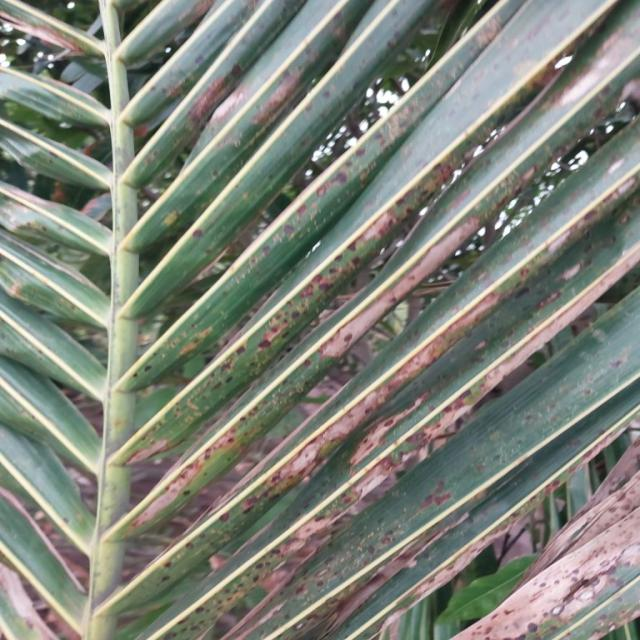gray leaf spot: (196, 106, 640, 634)
